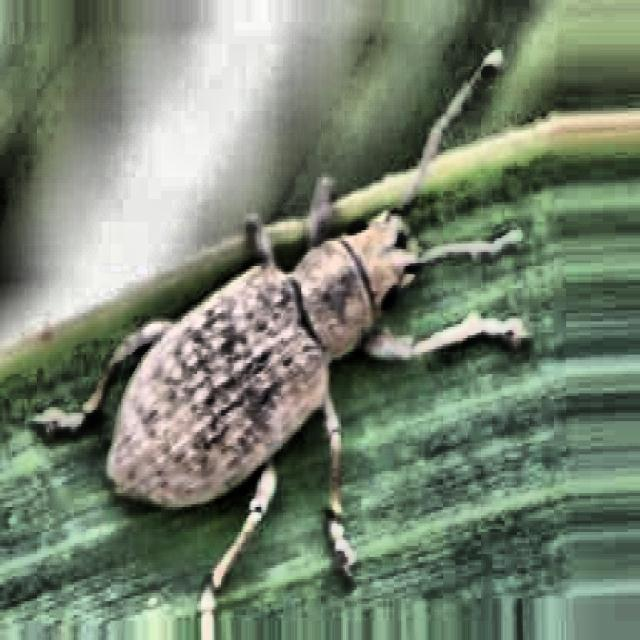Stink bug: (26, 0, 493, 599)
